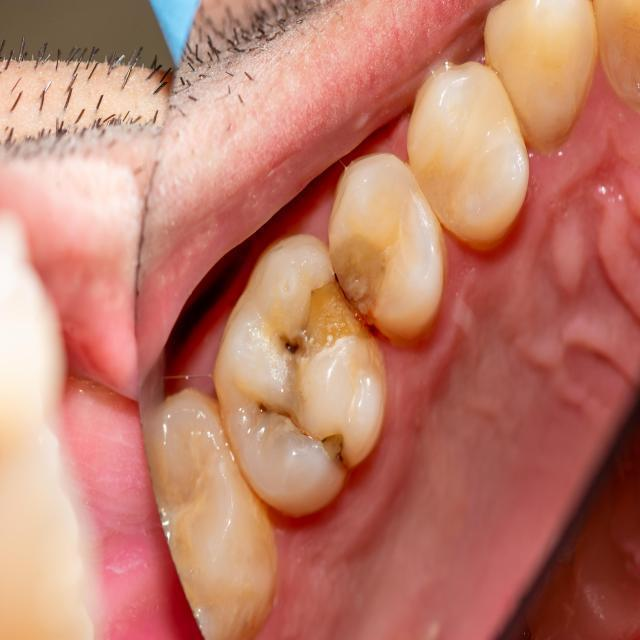caries: (218, 232, 380, 510)
